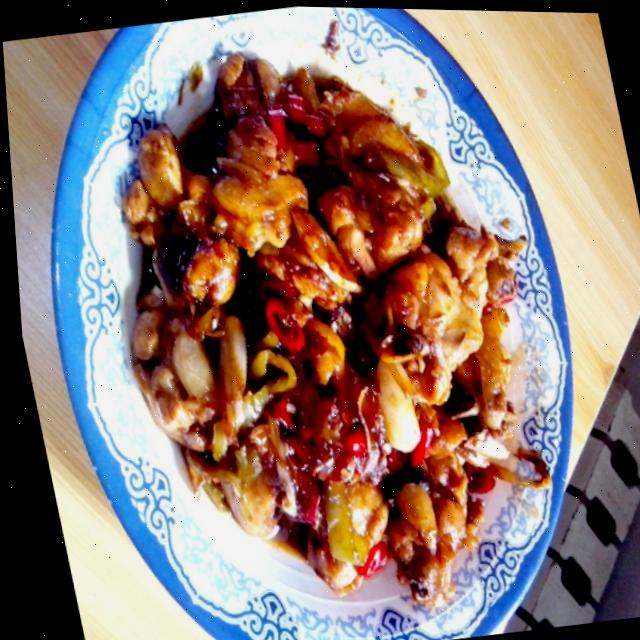鸡肉料理 含炸鸡: (53, 13, 613, 633)
